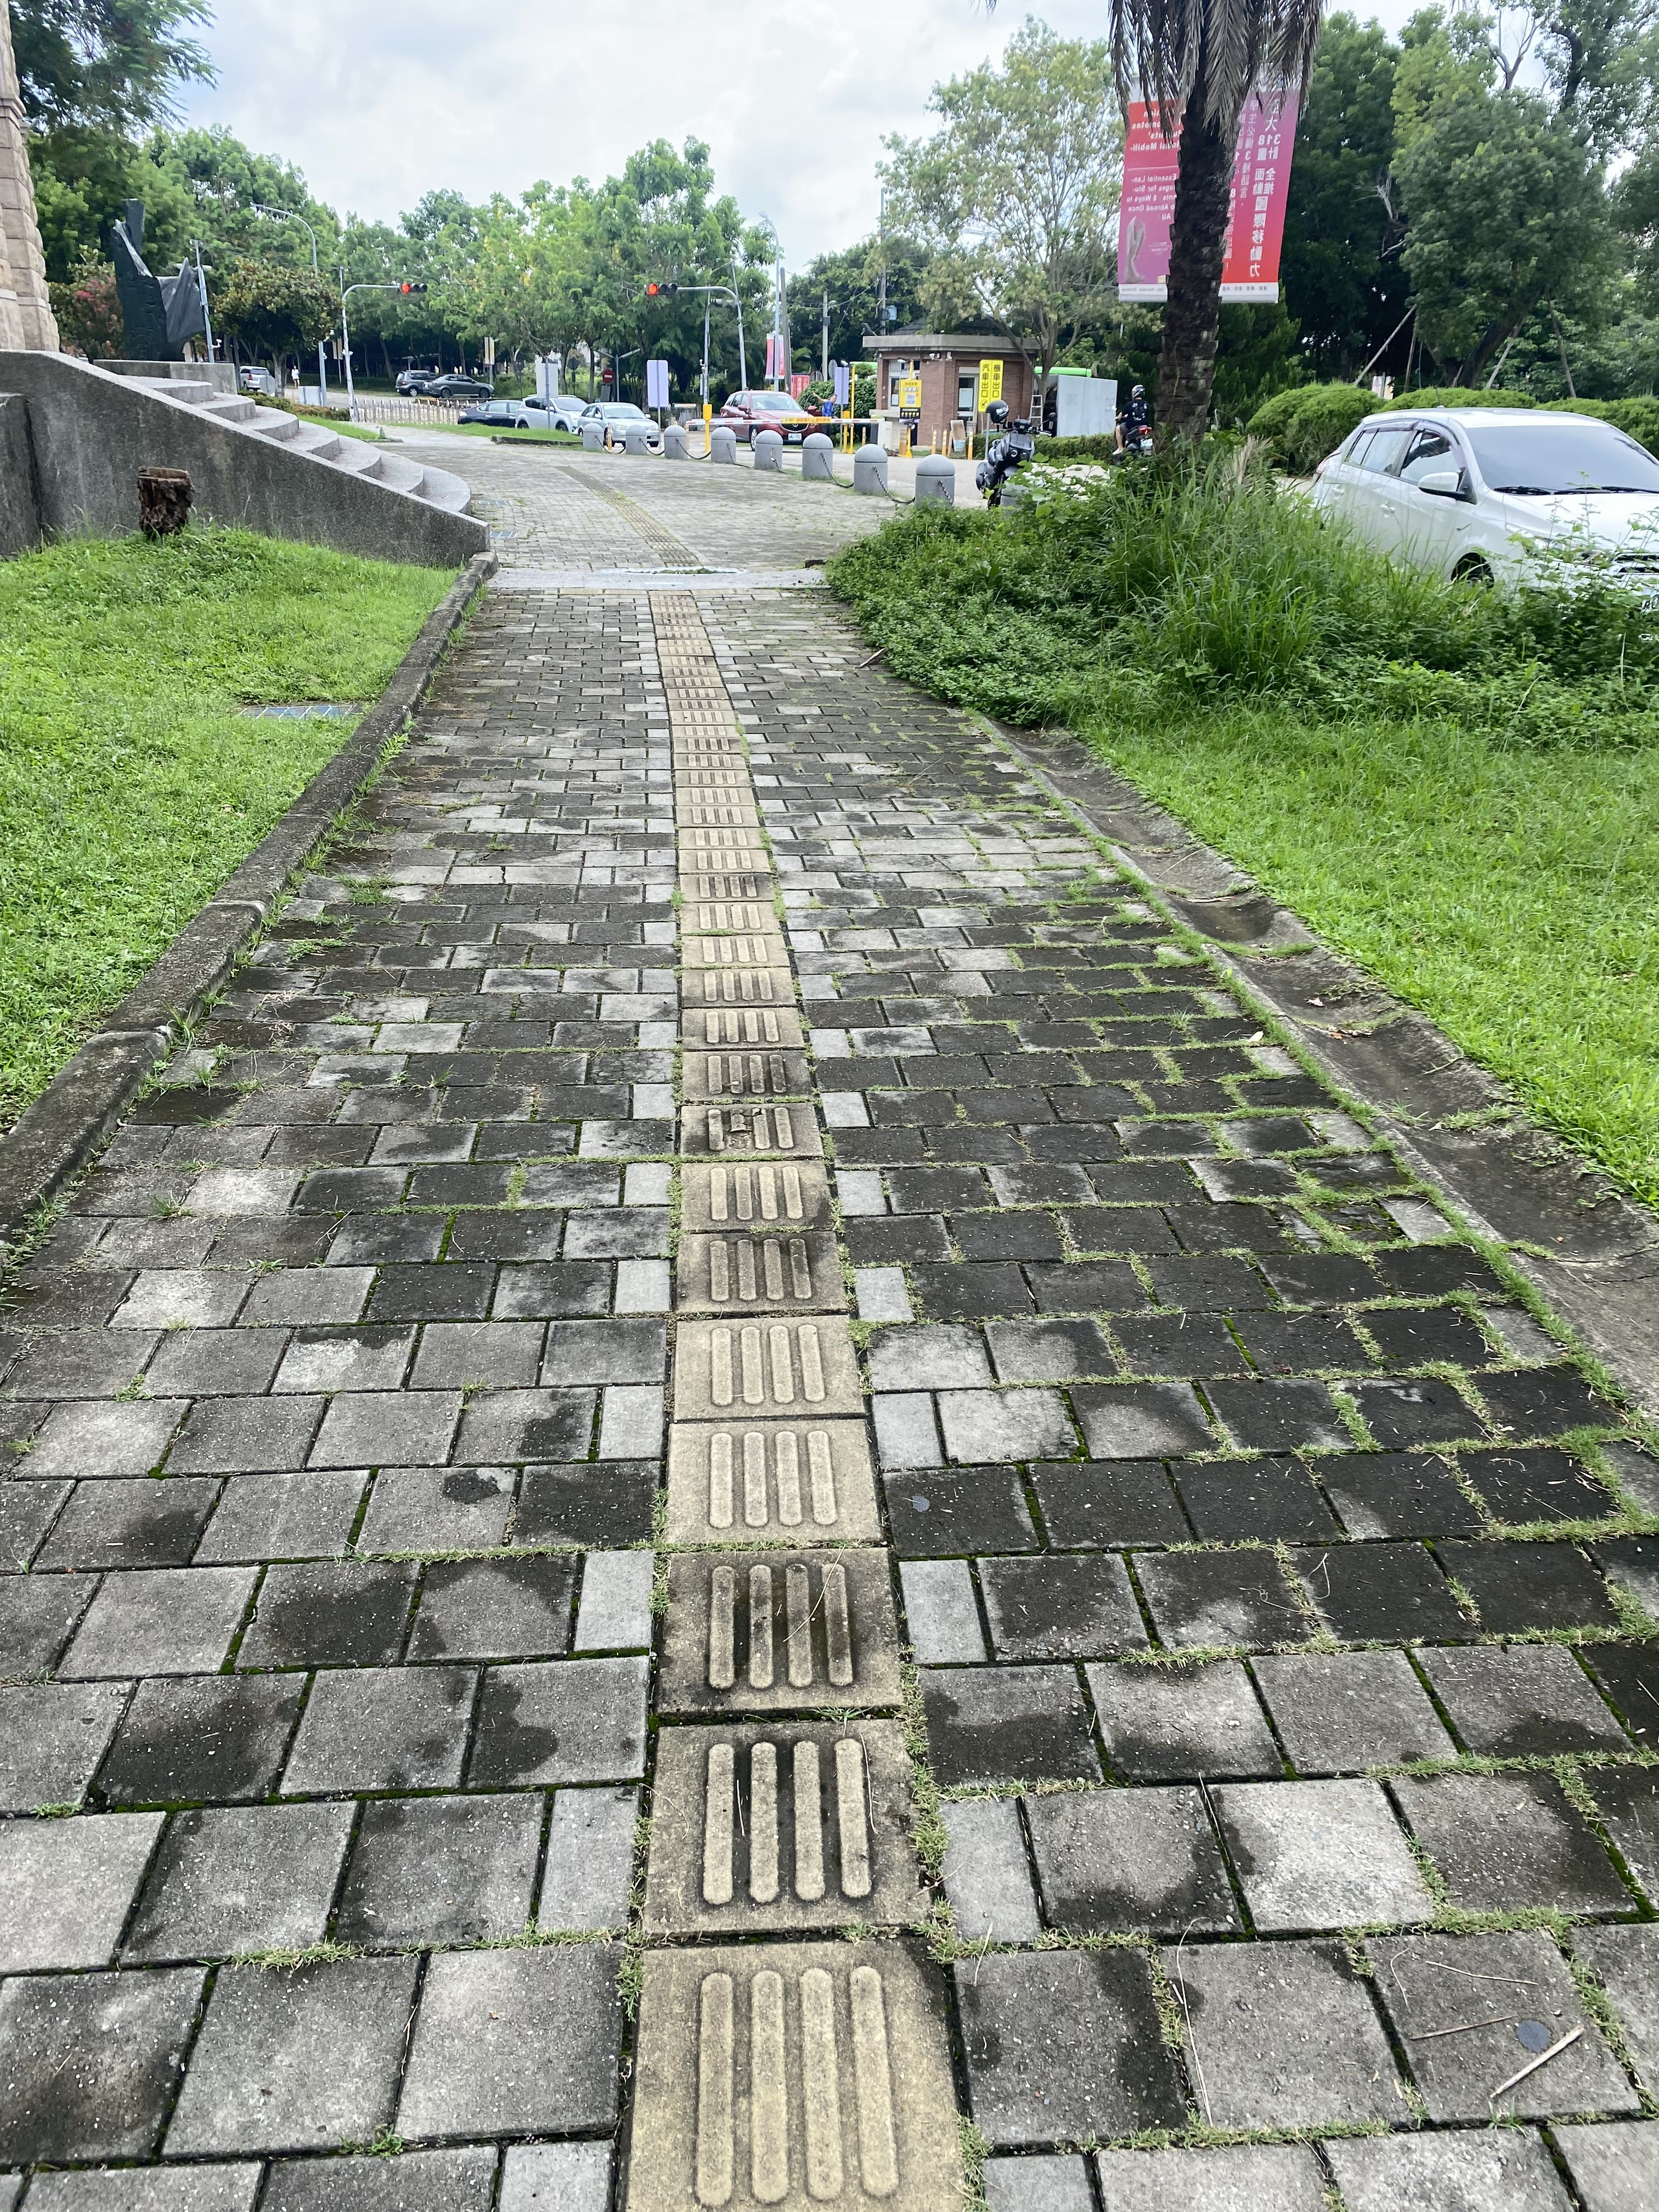0: (5, 745, 1659, 2212)
sidewalk: (361, 383, 1053, 1282)
